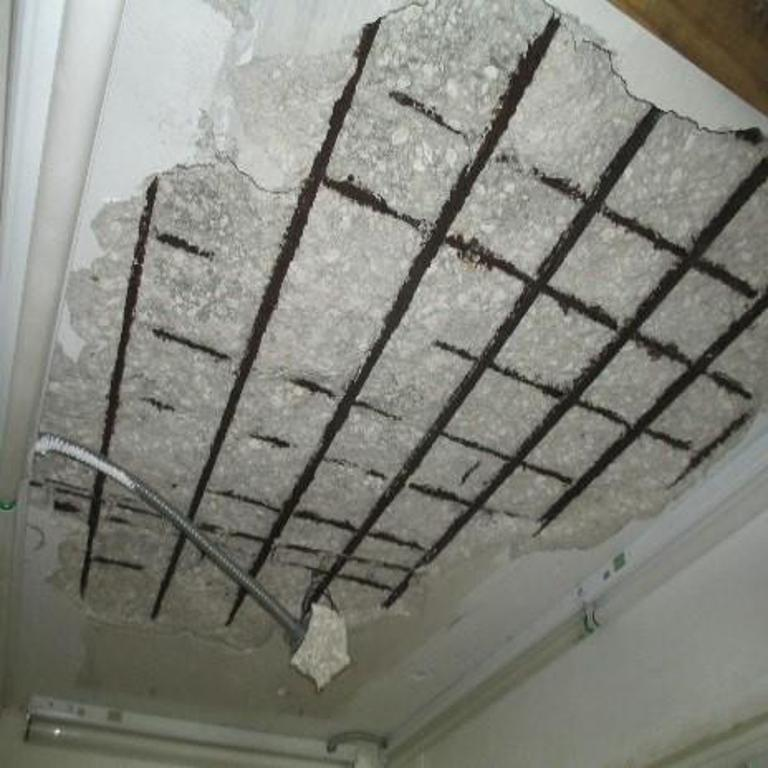damage: (20, 0, 768, 648)
